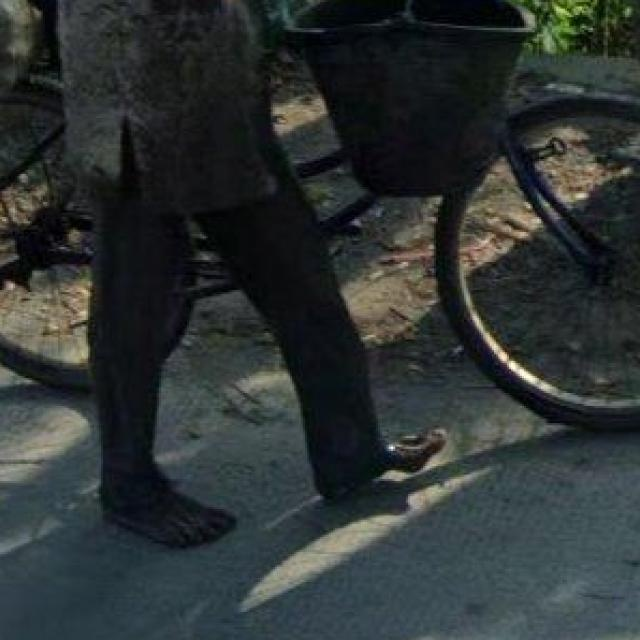bicycle: (11, 14, 633, 458)
